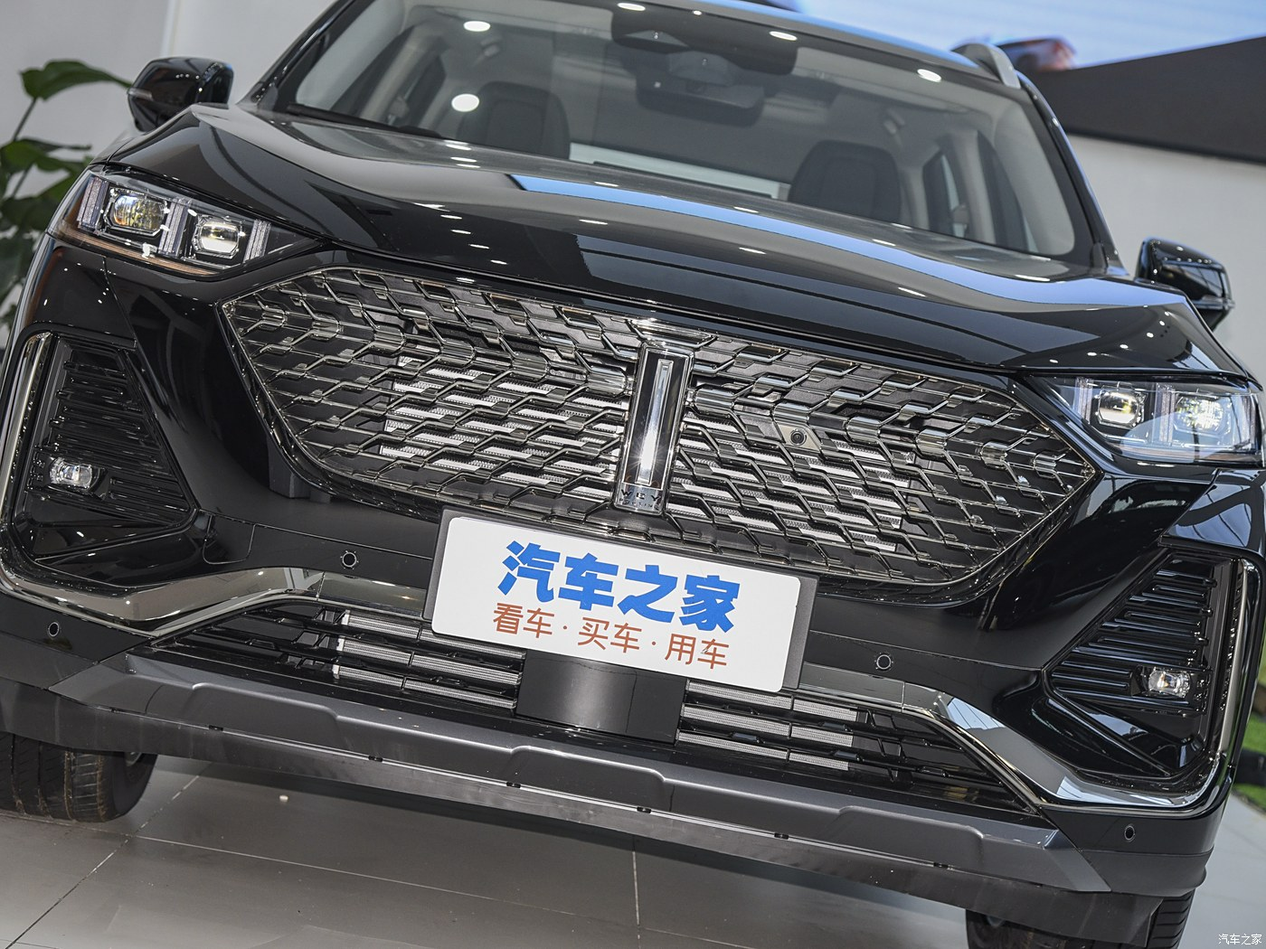WEY: (614, 343, 693, 515)
